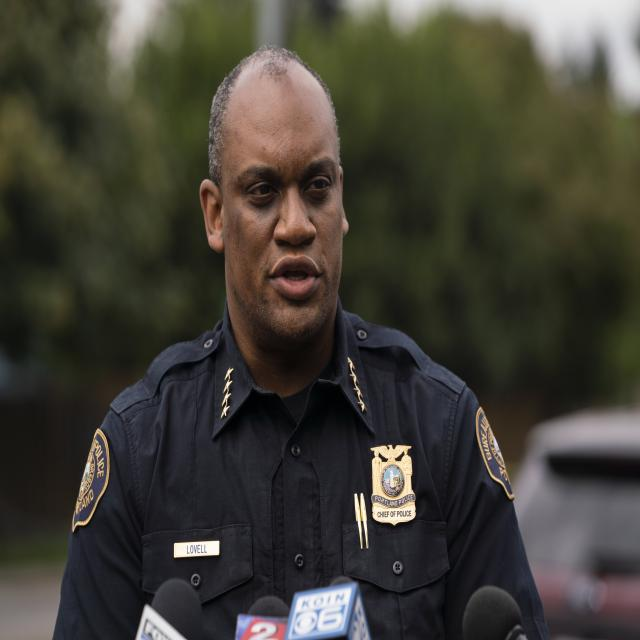police: (49, 43, 548, 640)
